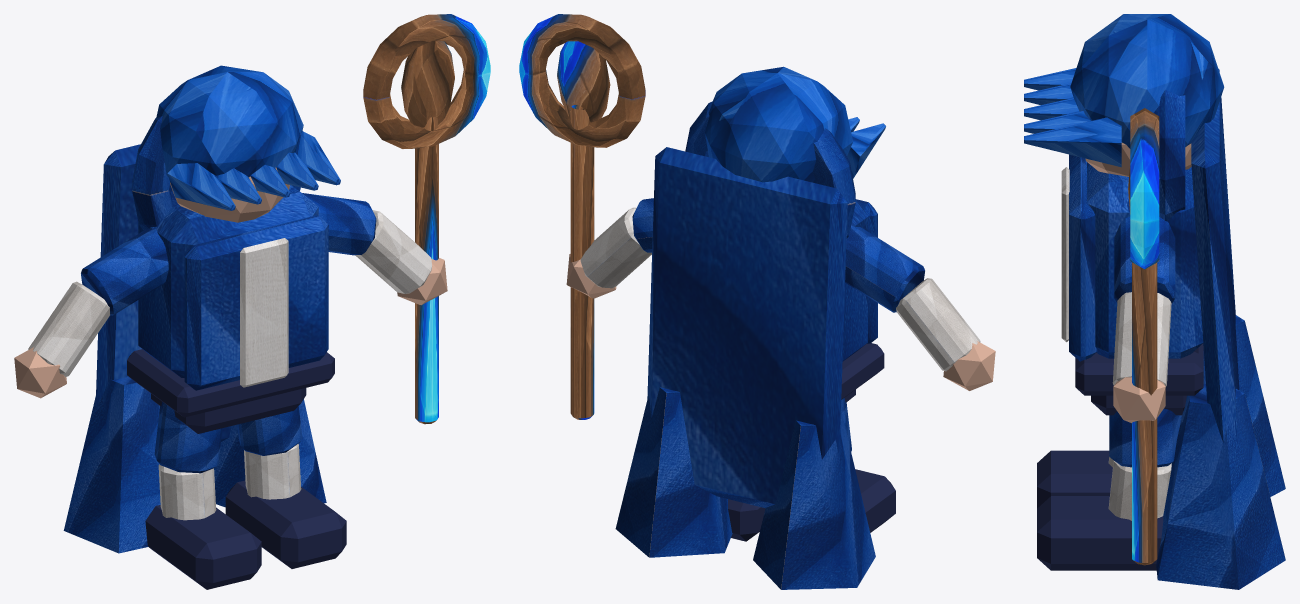
File: magic_caster_phase1.glb
3 renders of one model, left to right at view 1: azimuth 30°, elevation 25°; view 2: azimuth 150°, elevation 25°; view 3: azimuth 270°, elevation 25°, orthographic. The views are drawn at different scales.
Parts seen in each view (by area): view 1: magic_caster_Low; view 2: magic_caster_Low; view 3: magic_caster_Low.
Boxes of the visible parts, left/top/right/bottom form: magic_caster_Low: left=14, top=14, right=490, bottom=589; magic_caster_Low: left=519, top=14, right=995, bottom=589; magic_caster_Low: left=1024, top=14, right=1285, bottom=589.
Bounding box in the file's own units: 2.35 × 2.27 × 1.02.
Materials: 6 (4 with a texture image).
